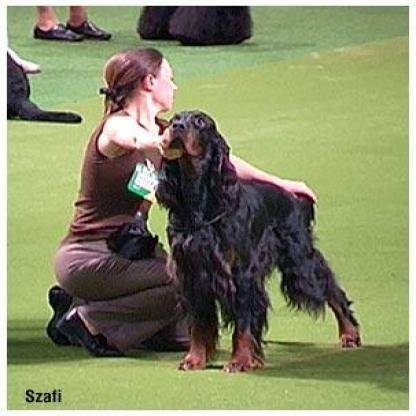Gordon_setter: (154, 108, 365, 372)
